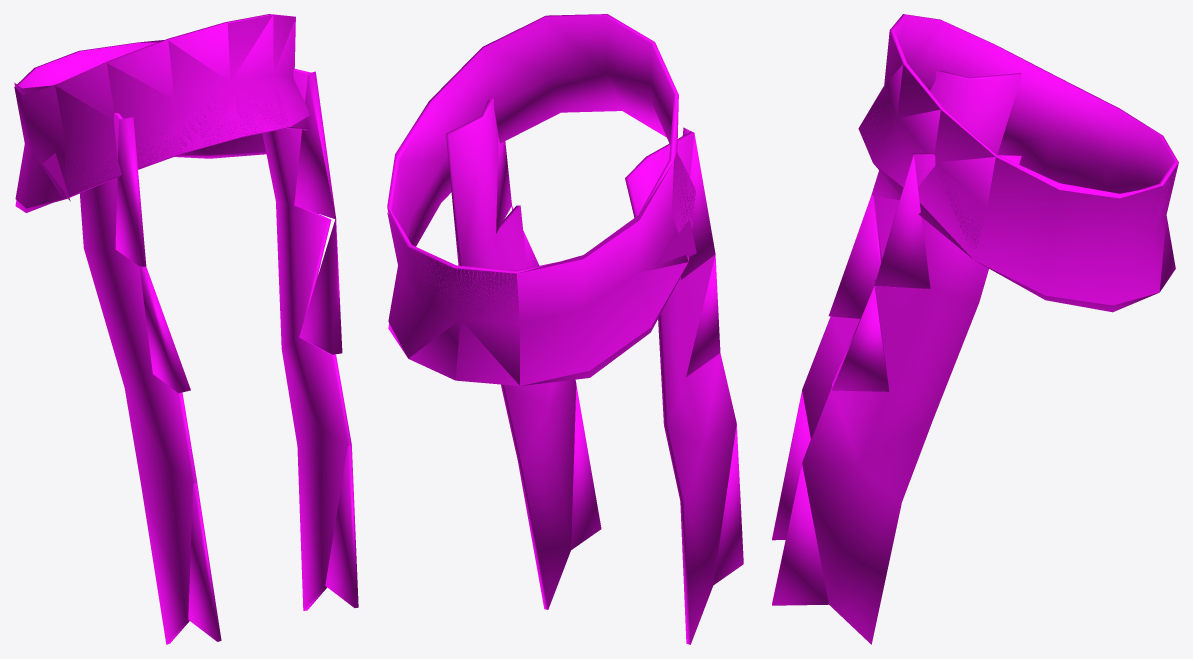
File: wreath_priestess.glb
3 renders of one model, left to right at view 1: azimuth 30°, elevation 25°; view 2: azimuth 150°, elevation 25°; view 3: azimuth 270°, elevation 25°, orthographic. The views are drawn at different scales.
Parts seen in each view (by area): view 1: Plano_021-mesh; view 2: Plano_021-mesh; view 3: Plano_021-mesh.
Part boxes in pixels (x1,y1,x2,y2): Plano_021-mesh: (14, 14, 358, 644); Plano_021-mesh: (387, 14, 743, 644); Plano_021-mesh: (772, 14, 1178, 644).
Bounding box in the file's own units: 0.5065 × 1.17 × 0.7442.
